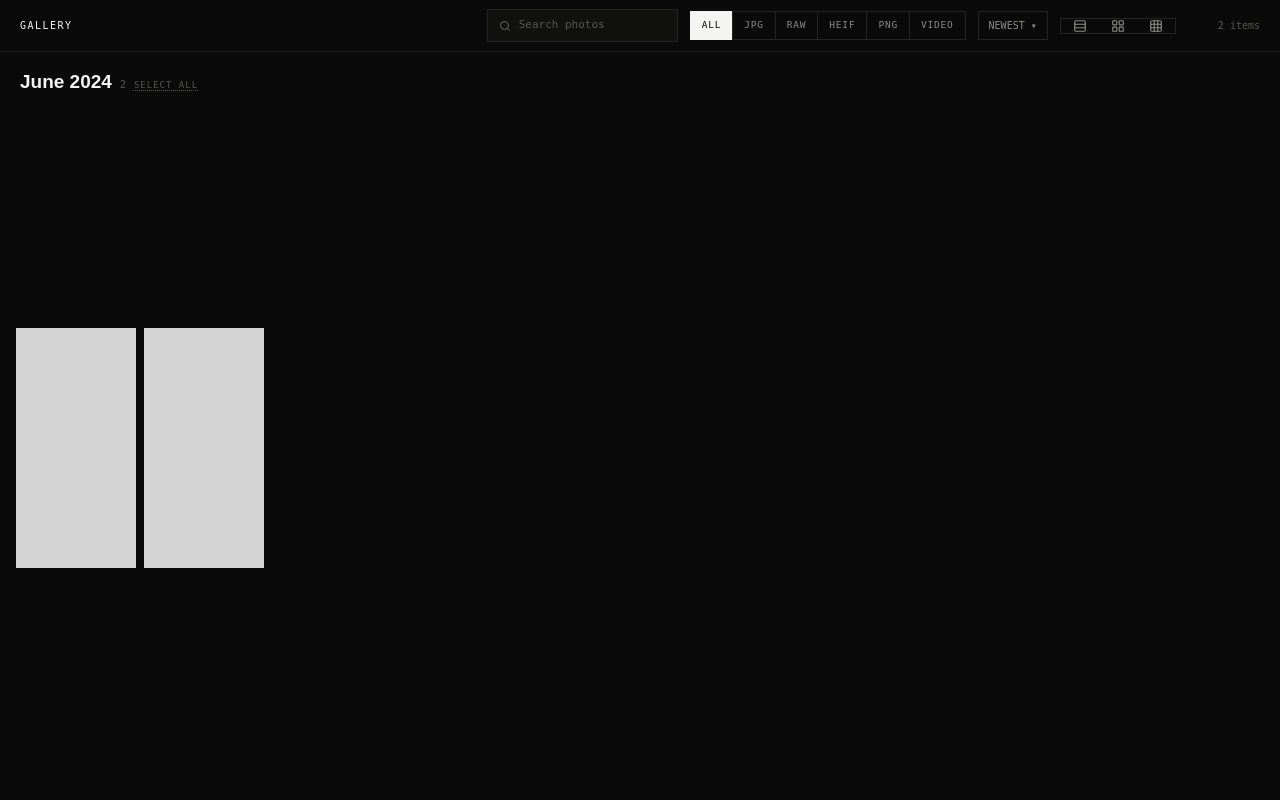
Test case: deselects the last selected tile on a plain click, leaving selection mode
What coordinates should you click on to do the following:
click the button named "photos/"
I would click on:
 (76, 448)
Its box is 16,328 -> 136,568.
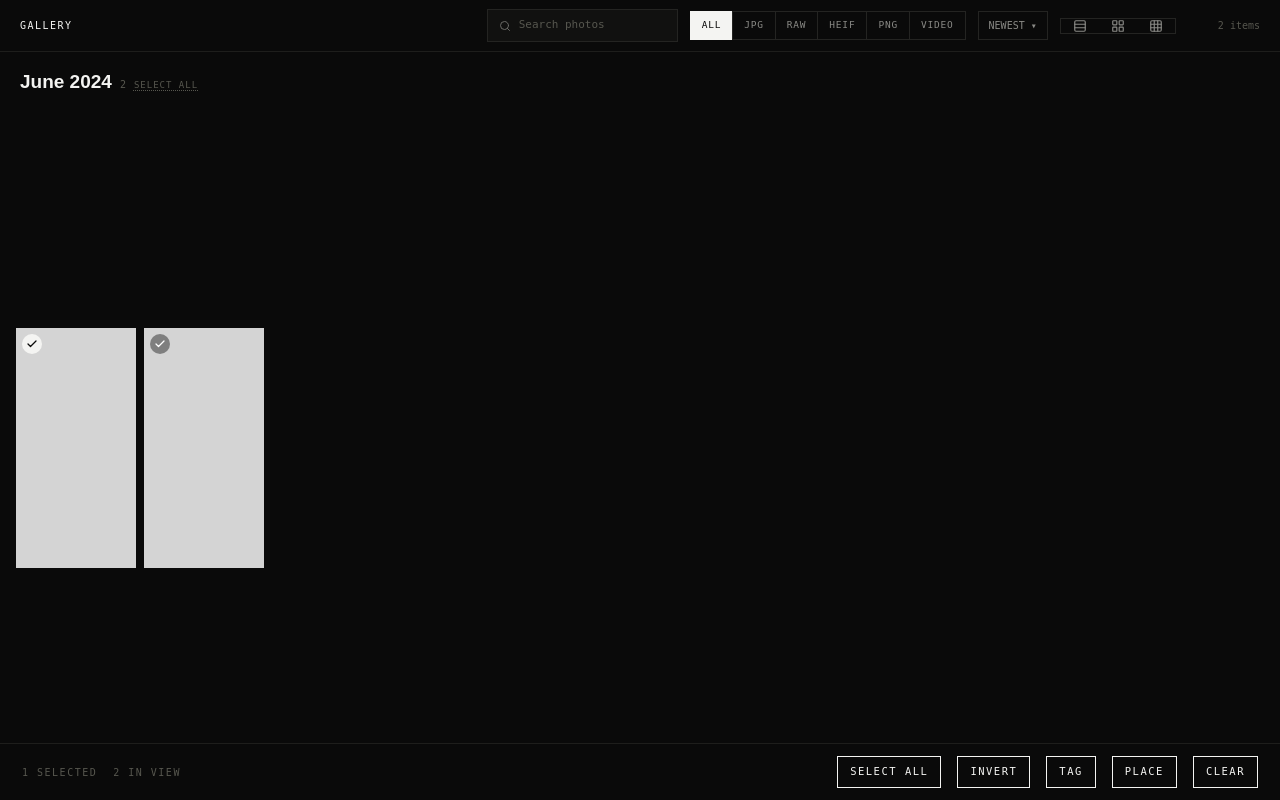
Now the text "1 SELECTED" is shown, box 22,764 -> 97,780
What coordinates should you click on to do the following:
click the button named "photos/"
I would click on:
 (76, 448)
Its box is 16,328 -> 136,568.
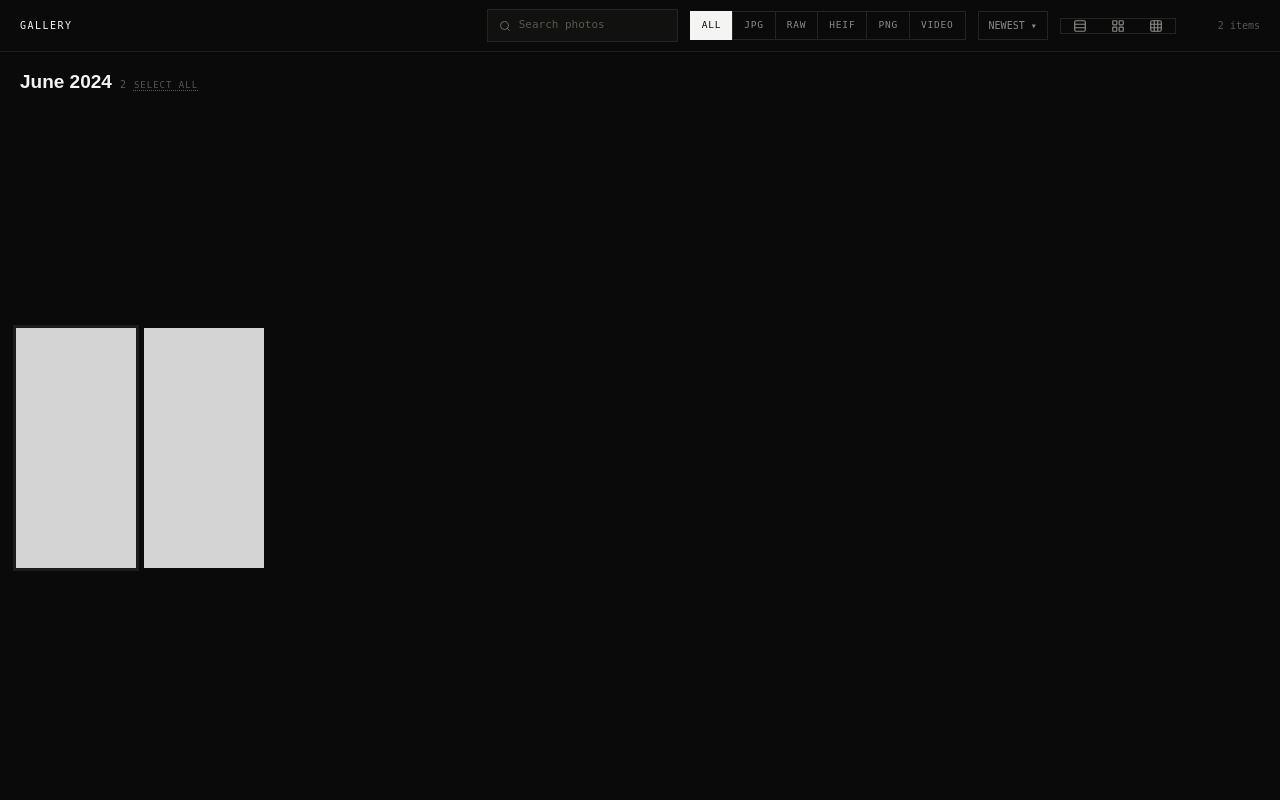
Now the text "SELECTED" is gone
